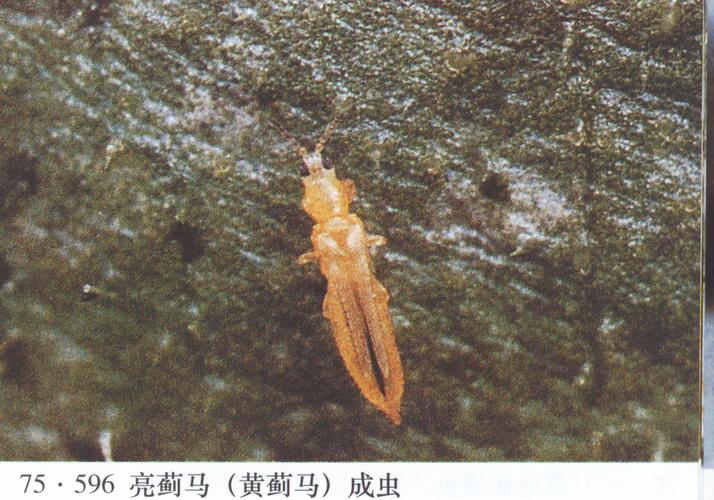Thripidae: (268, 120, 406, 430)
